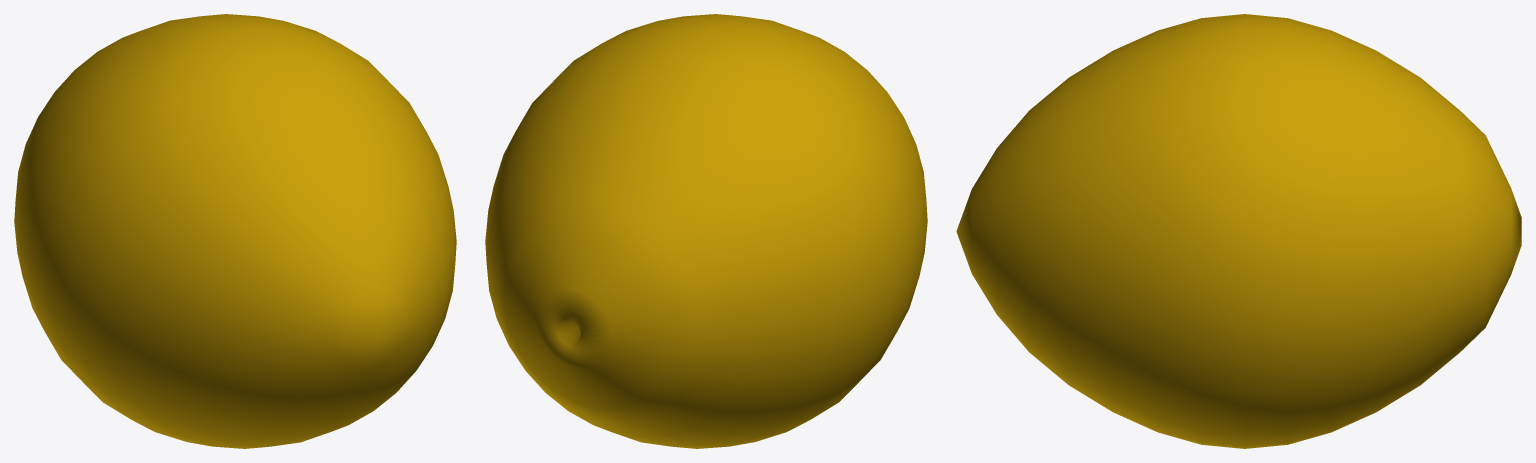
The picture shows the model from 3 angles, left to right: view 1: azimuth 30°, elevation 25°; view 2: azimuth 150°, elevation 25°; view 3: azimuth 270°, elevation 25°; orthographic projection.
Visible parts, largest first — view 1: 球體; view 2: 球體; view 3: 球體.
Part boxes in pixels (box(x1,y1,x2,y2)): 球體: box(14, 14, 456, 448); 球體: box(485, 14, 927, 448); 球體: box(956, 14, 1521, 448).
Size of the model in its own units: 23.49 by 23.49 by 30.5.
